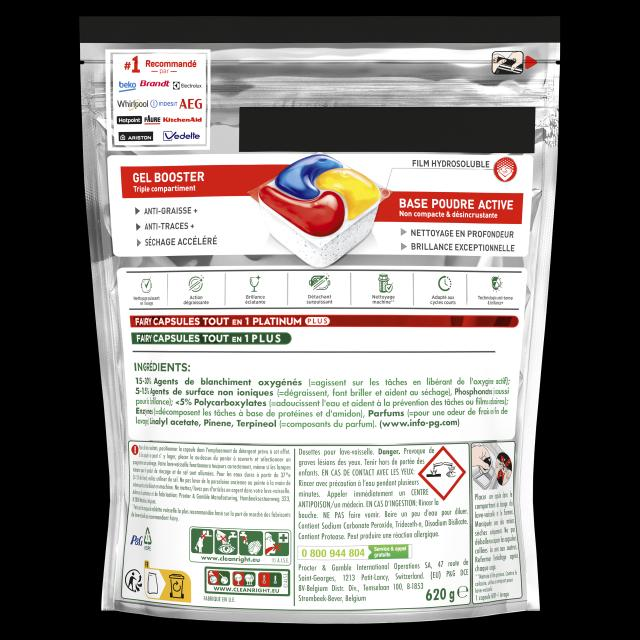GHS_Symbol_CORROSION: (419, 446, 466, 500)
